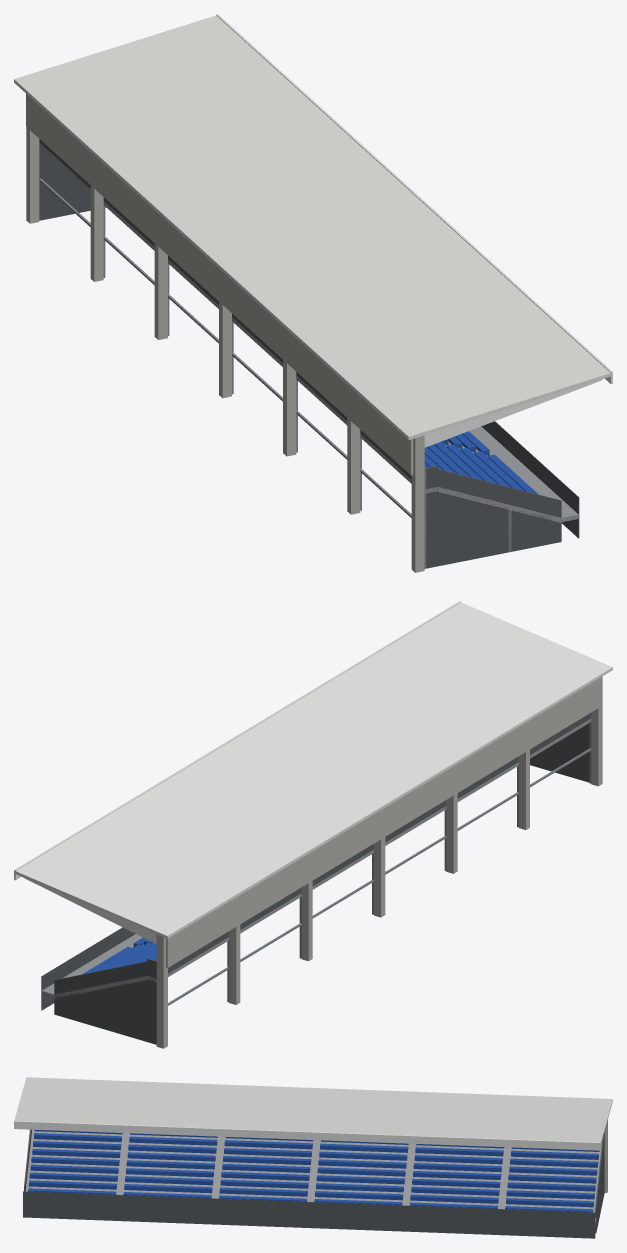
Rendered from mza_stand_uscita_ascari_a.glb.
3 renders of one model, top to bottom at view 1: azimuth 30°, elevation 25°; view 2: azimuth 150°, elevation 25°; view 3: azimuth 270°, elevation 25°, orthographic. The views are drawn at different scales.
Parts seen in each view (by area): view 1: monza-uscita-ascari-a; view 2: monza-uscita-ascari-a; view 3: monza-uscita-ascari-a.
Boxes of the visible parts, x1,y1,x2,y2 form: monza-uscita-ascari-a: (14, 14, 612, 572); monza-uscita-ascari-a: (14, 601, 612, 1048); monza-uscita-ascari-a: (14, 1077, 612, 1238).
Bounding box in the file's own units: 16.18 × 9.65 × 50.25.
